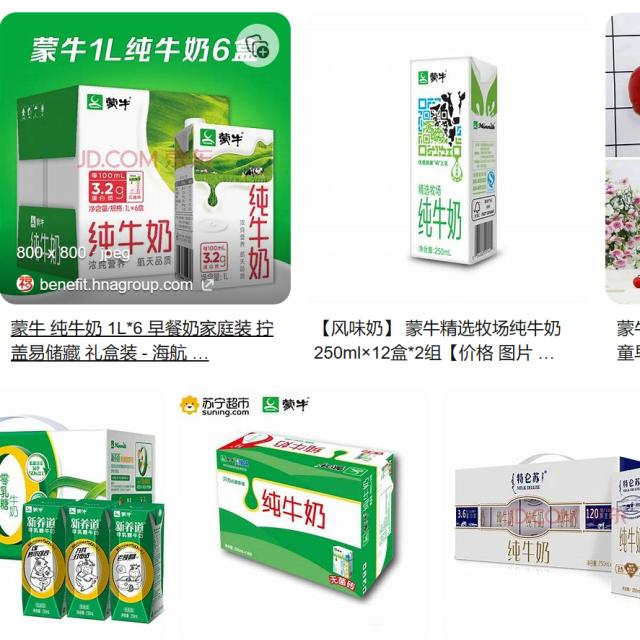mengniu_milk: (190, 123, 278, 185)
